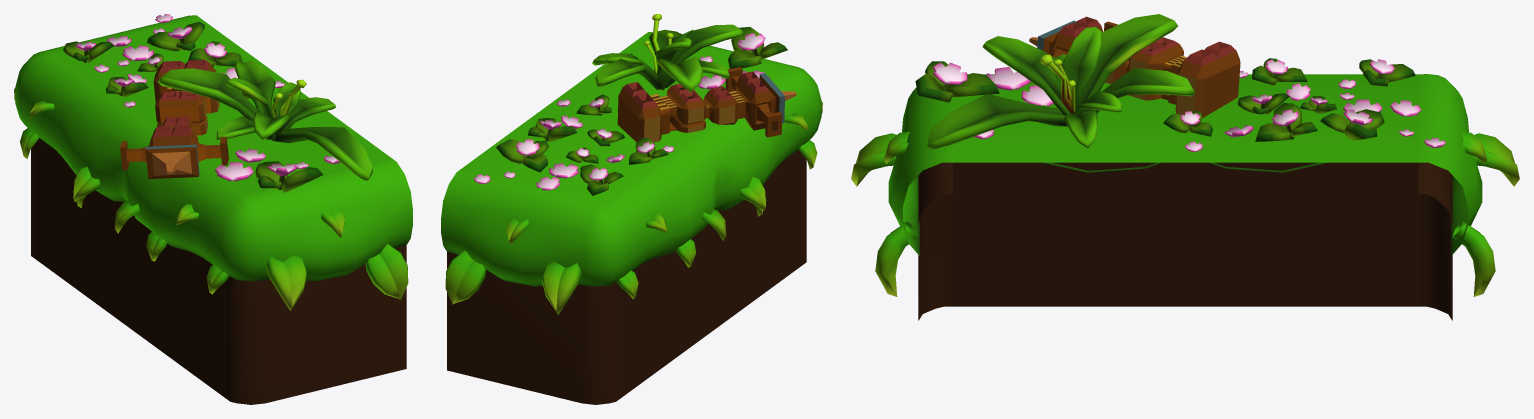
Rendered from Island_01.fbx.
3 renders of one model, left to right at view 1: azimuth 30°, elevation 25°; view 2: azimuth 150°, elevation 25°; view 3: azimuth 270°, elevation 25°, orthographic. The views are drawn at different scales.
Visible parts, largest first — view 1: Island_01; view 2: Island_01; view 3: Island_01.
Boxes of the visible parts, bbox=[...] form: Island_01: bbox=[14, 14, 412, 404]; Island_01: bbox=[441, 14, 822, 404]; Island_01: bbox=[851, 14, 1519, 320].
Bounding box in the file's own units: 2510 × 3026 × 5752.
